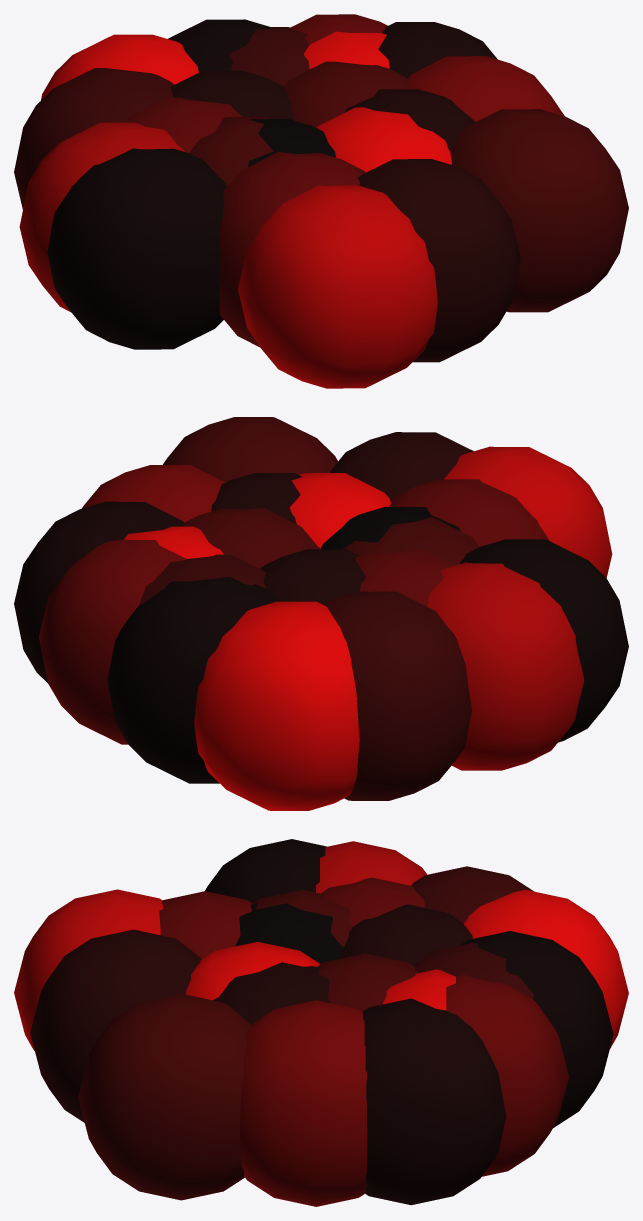
The model's file is Bubbles.fbx.
3 renders of one model, top to bottom at view 1: azimuth 30°, elevation 25°; view 2: azimuth 150°, elevation 25°; view 3: azimuth 270°, elevation 25°, orthographic. The views are drawn at different scales.
Parts seen in each view (by area): view 1: Bubbles; view 2: Bubbles; view 3: Bubbles.
Part boxes in pixels (box(x1,y1,x2,y2)): Bubbles: box(14, 14, 628, 388); Bubbles: box(14, 417, 628, 810); Bubbles: box(14, 839, 628, 1206).
Bounding box in the file's own units: 0.5673 × 0.1995 × 0.5932.
